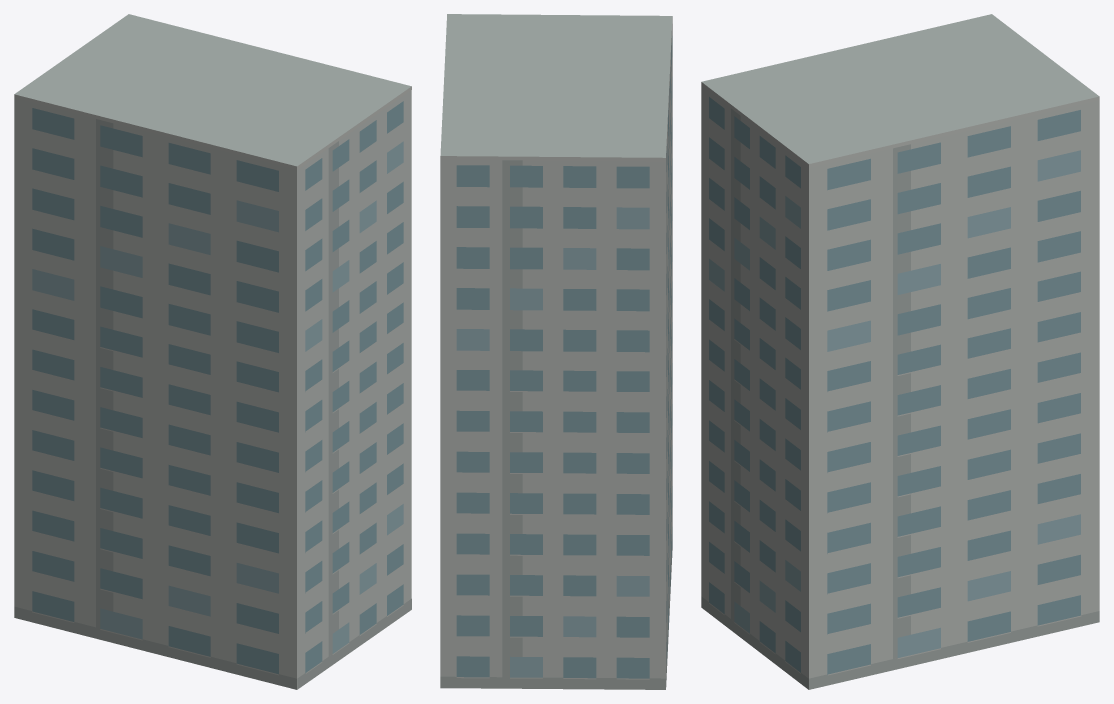
The model's file is residential-f9a7cc6d-e1d1-484d-b0d6-9104198e4b37.glb.
3 renders of one model, left to right at view 1: azimuth 30°, elevation 25°; view 2: azimuth 150°, elevation 25°; view 3: azimuth 270°, elevation 25°, orthographic.
Visible parts, largest first — view 1: residential-f9a7cc6d-e1d1-484d-b0d6-9104198e4b37.tmp; view 2: residential-f9a7cc6d-e1d1-484d-b0d6-9104198e4b37.tmp; view 3: residential-f9a7cc6d-e1d1-484d-b0d6-9104198e4b37.tmp.
Part boxes in pixels (x1,y1,x2,y2): residential-f9a7cc6d-e1d1-484d-b0d6-9104198e4b37.tmp: (14, 14, 411, 689); residential-f9a7cc6d-e1d1-484d-b0d6-9104198e4b37.tmp: (440, 14, 672, 689); residential-f9a7cc6d-e1d1-484d-b0d6-9104198e4b37.tmp: (701, 14, 1099, 689).
Bounding box in the file's own units: 20.84 × 34 × 23.35.
